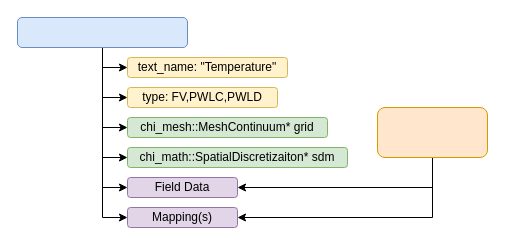
Image size: 505x245. Some labels were removed from this diagram. The centre of each missing label's shape, as x and y in pixels:
chi_physics::FieldFunction: pixel 102 32
Solvers: pixel 432 132
